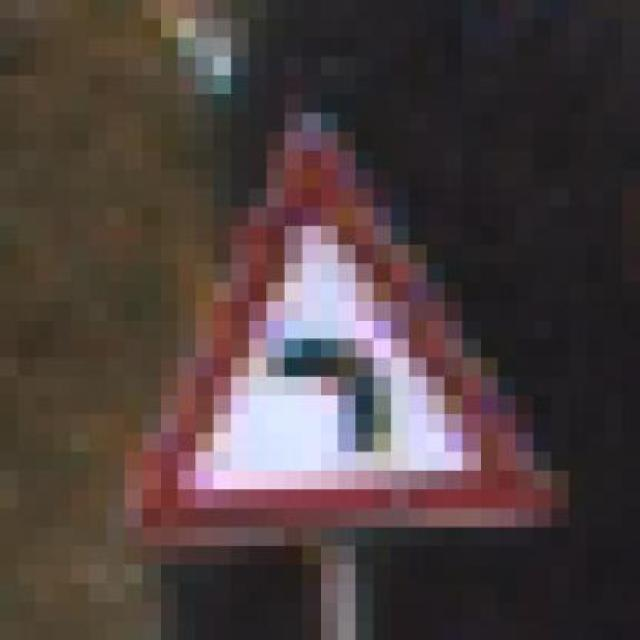Dangerous Left Curve Ahead: (107, 112, 587, 546)
